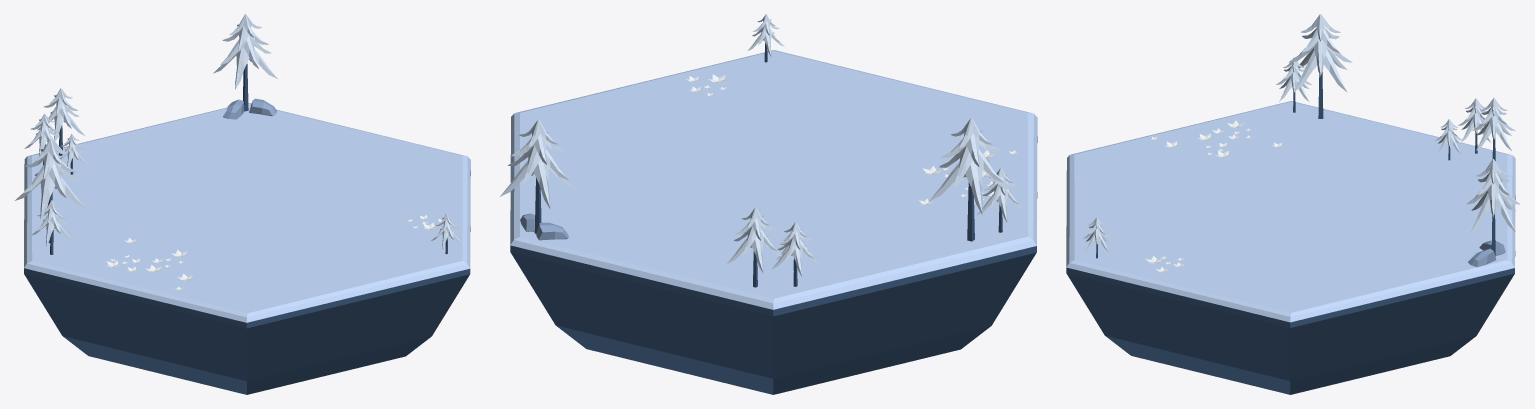
File: Asset_Biome_Snow_02.fbx
3 views of the same model, side by side, from view 1: azimuth 30°, elevation 25°; view 2: azimuth 150°, elevation 25°; view 3: azimuth 270°, elevation 25° (orthographic). The views are drawn at different scales.
Parts seen in each view (by area): view 1: Asset_Tile_Snow, PolySurface_TreeSnow_011, PolySurface_TreeSnow_08, PolySurface_TreeSnow_05, PolySurface_TreeSnow_010, PolySurface_TreeSnow_04, PolySurface_TreeSnow_012, PolySurface_TreeSnow_09; view 2: Asset_Tile_Snow, PolySurface_TreeSnow_011, PolySurface_TreeSnow_08, PolySurface_TreeSnow_05, PolySurface_TreeSnow_04, PolySurface_TreeSnow_010, PolySurface_TreeSnow_012, PolySurface_RockSnow_01; view 3: Asset_Tile_Snow, PolySurface_TreeSnow_011, PolySurface_TreeSnow_08, PolySurface_TreeSnow_05, PolySurface_TreeSnow_010, PolySurface_TreeSnow_04, PolySurface_TreeSnow_09, PolySurface_TreeSnow_012.
Part boxes in pixels (x1=…): Asset_Tile_Snow: x1=24, y1=102, x2=470, y2=394; PolySurface_TreeSnow_011: x1=15, y1=138, x2=85, y2=242; PolySurface_TreeSnow_08: x1=213, y1=14, x2=277, y2=111; PolySurface_TreeSnow_05: x1=37, y1=88, x2=84, y2=155; PolySurface_TreeSnow_010: x1=31, y1=200, x2=71, y2=254; PolySurface_TreeSnow_04: x1=24, y1=113, x2=62, y2=164; PolySurface_TreeSnow_012: x1=431, y1=213, x2=462, y2=254; PolySurface_TreeSnow_09: x1=59, y1=134, x2=87, y2=174; Asset_Tile_Snow: x1=510, y1=50, x2=1037, y2=394; PolySurface_TreeSnow_011: x1=928, y1=118, x2=1013, y2=241; PolySurface_TreeSnow_08: x1=500, y1=119, x2=576, y2=233; PolySurface_TreeSnow_05: x1=727, y1=207, x2=781, y2=287; PolySurface_TreeSnow_04: x1=771, y1=222, x2=819, y2=286; PolySurface_TreeSnow_010: x1=976, y1=168, x2=1024, y2=232; PolySurface_TreeSnow_012: x1=748, y1=14, x2=784, y2=62; PolySurface_RockSnow_01: x1=536, y1=222, x2=568, y2=240; Asset_Tile_Snow: x1=1066, y1=101, x2=1515, y2=394; PolySurface_TreeSnow_011: x1=1288, y1=14, x2=1352, y2=118; PolySurface_TreeSnow_08: x1=1466, y1=159, x2=1519, y2=256; PolySurface_TreeSnow_05: x1=1472, y1=98, x2=1515, y2=160; PolySurface_TreeSnow_010: x1=1276, y1=57, x2=1311, y2=112; PolySurface_TreeSnow_04: x1=1458, y1=98, x2=1490, y2=153; PolySurface_TreeSnow_09: x1=1435, y1=119, x2=1463, y2=160; PolySurface_TreeSnow_012: x1=1083, y1=217, x2=1110, y2=258.
Bounding box in the file's own units: 436 × 207 × 382.
